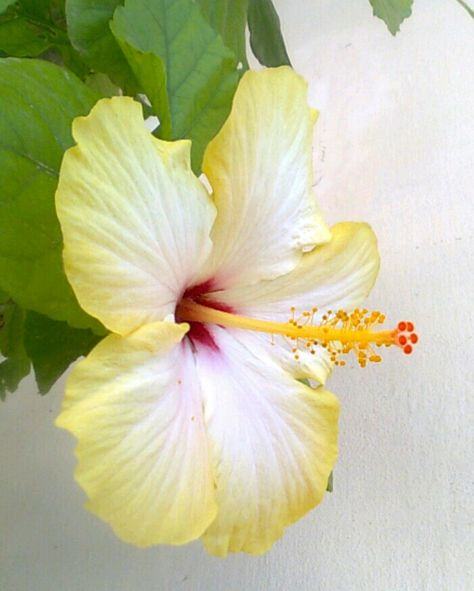Hibiscus: (61, 55, 441, 564)
